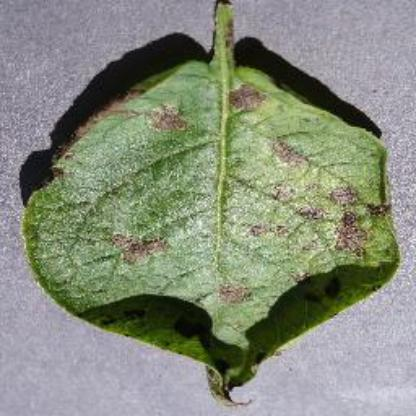Early-Blight: (22, 0, 401, 398)
